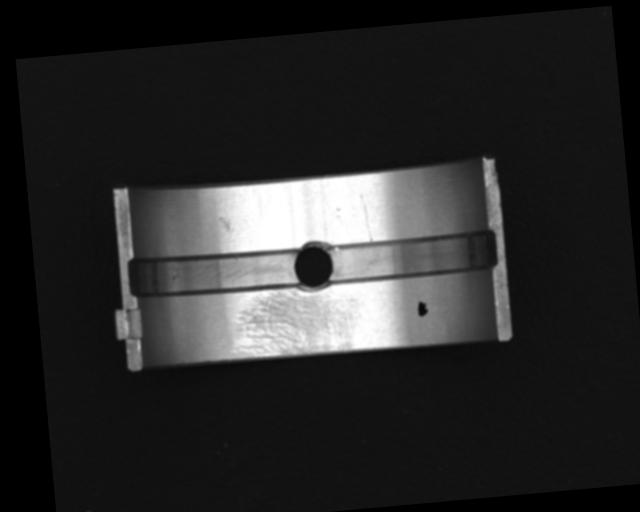blot: (415, 299, 430, 318)
bruise: (216, 214, 232, 232)
gap: (125, 245, 303, 302), (326, 229, 498, 286)
hole: (291, 236, 336, 295)
nick: (361, 202, 372, 242)
scratch: (229, 282, 365, 360)
